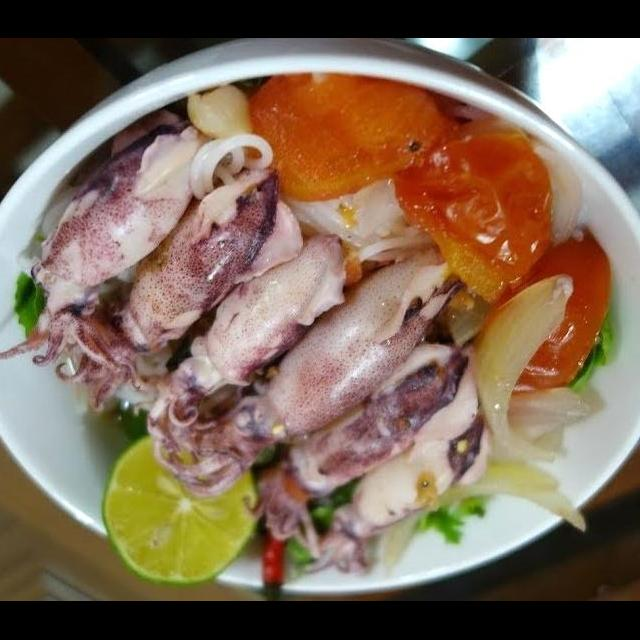bun: (270, 168, 438, 272), (182, 128, 278, 206)
muc: (148, 237, 480, 500), (49, 162, 308, 418), (0, 115, 227, 366), (236, 330, 482, 556), (125, 230, 352, 444), (288, 364, 496, 580)
